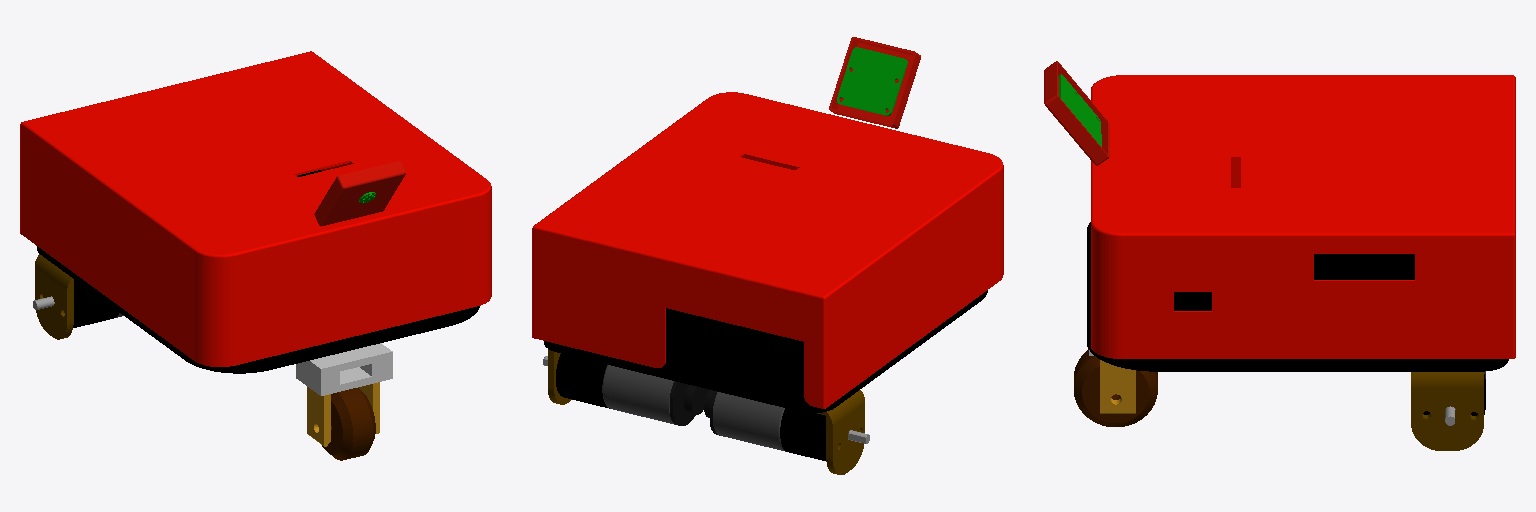
robot.urdf — vision_rpi_bot:
<robot name="vision_rpi_bot">

  <link name="base_footprint" />
<!-- ////////////////////////////////////  BASE LINK //////////////////////////////////////////////// -->
  <link name="base_link">
    <inertial>
      <mass value="4" />
      <origin xyz="0 0 0.1" rpy="0 0 0" />
      <inertia ixx="0.00355" iyy="0.01265" izz="0.013832" ixy="0.0" ixz="0.0" iyz="0.0" />
    </inertial>

    <visual>
      <geometry>
        <mesh filename="package://vision_rpi_bot/meshes/base.dae" />

      </geometry>

    </visual>

    <collision>
      <geometry>
        <mesh filename="package://vision_rpi_bot/meshes/base.dae" />
      </geometry>
    </collision>

  </link>
  <joint name="base_joint" type="fixed">
    <parent link="base_footprint" />
    <child link="base_link" />
    <origin rpy="0 0 0" xyz="0 0 0.14" />
  </joint>
<!-- ////////////////////////////////////  COVER LINK //////////////////////////////////////////////// -->

  <link name="cover_link">
    <inertial>
      <mass value="0.5" />
      <origin xyz="0 0 0.1" rpy="0 0 0" />
      <inertia ixx="0.00355" iyy="0.01265" izz="0.013832" ixy="0.0" ixz="0.0" iyz="0.0" />
    </inertial>

    <visual>
      <geometry>
        <mesh filename="package://vision_rpi_bot/meshes/cover.dae" />
      </geometry>

    </visual>

    <collision>
      <geometry>
        <mesh filename="package://vision_rpi_bot/meshes/cover.dae" />
      </geometry>
    </collision>


  </link>

  <joint name="cover_joint" type="fixed">
    <parent link="base_link" />
    <child link="cover_link" />
    <origin xyz="0.0015  0 0.08" rpy="0 0 0" />

  </joint>

<!-- ////////////////////////////////////  Right Wheel LINK //////////////////////////////////////////////// -->

  <link name="wheel_right_link">
    <inertial>
      <mass value="1" />
      <inertia ixx="0.001444223" iyy="0.00280875" izz="0.001444223" ixy="0.0" ixz="0.0" iyz="0.0" />
      <origin />
    </inertial>

    <visual>
      <origin xyz="0.0 0.0 0.0" rpy="0.0 0.0 3.14"/>
      <geometry>
        <mesh filename="package://vision_rpi_bot/meshes/wheel.dae" />
      </geometry>


    </visual>

    <collision>
      <geometry>
        <mesh filename="package://vision_rpi_bot/meshes/wheel.dae" />
      </geometry>
    </collision>

  </link>

  <joint name="wheel_right_joint" type="continuous">
    <origin xyz="-0.232  0.14 -0.045  " rpy="0 0.0 -1.57" />
    <parent link="base_link" />
    <child link="wheel_right_link" />
    <axis xyz="0 1 0" />
  </joint>
<!-- ////////////////////////////////////  Left Wheel LINK //////////////////////////////////////////////// -->

  <link name="wheel_left_link">
    <inertial>
      <mass value="1" />
      <inertia ixx="0.001444223" iyy="0.00280875" izz="0.001444223" ixy="0.0" ixz="0.0" iyz="0.0" />
      <origin />
    </inertial>

    <visual>

      <geometry>
        <mesh filename="package://vision_rpi_bot/meshes/wheel.dae" />
      </geometry>


    </visual>

    <collision>
      <geometry>
        <mesh filename="package://vision_rpi_bot/meshes/wheel.dae" />
      </geometry>
    </collision>
  </link>

  <joint name="wheel_left_joint" type="continuous">
    <origin xyz="0.233  0.14 -0.045  " rpy="0 0.0 -1.57" />
    <parent link="base_link" />
    <child link="wheel_left_link" />
    <axis xyz="0.0 1 0" />

  </joint>
<!-- ////////////////////////////////////  Caster Holder LINK //////////////////////////////////////////////// -->

<link name="caster_holder_link">

  <inertial>
    <mass value="0.1" />
    <inertia ixx="0.0001295" iyy="0.0001295" izz="0.000199322" ixy="0.0" ixz="0.0" iyz="0.0" />
    <origin />
  </inertial>

  <visual>
    <geometry>
      <mesh filename="package://vision_rpi_bot/meshes/caster_holder.dae" />
    </geometry>
  </visual>

  <collision>
    <geometry>
      <mesh filename="package://vision_rpi_bot/meshes/caster_holder.dae" />
    </geometry>
  </collision>

</link>

<joint name="caster_holder_joint" type="continuous">
  <origin xyz="0 -0.19 -0.015" rpy="0.0 0.0 0.0" />
  <axis xyz="0 0 1" />
  <parent link="base_link" />
  <child link="caster_holder_link" />
</joint>
<!-- ////////////////////////////////////  Caster Wheel LINK //////////////////////////////////////////////// -->
   <link name="caster_wheel_link">
    <inertial>
      <mass value="0.1" />
      <inertia ixx="0.0001295" iyy="0.0001295" izz="0.000199322" ixy="0.0" ixz="0.0" iyz="0.0" />
      <origin />
    </inertial>
    <visual>
      <geometry>
        <mesh filename="package://vision_rpi_bot/meshes/caster_wheel.dae" />
      </geometry>
    </visual>
    <collision>
      <geometry>
        <mesh filename="package://vision_rpi_bot/meshes/caster_wheel.dae" />
      </geometry>
    </collision>
  </link>

  <joint name="caster_wheel_joint" type="continuous">
    <origin xyz="0 -0.003  -0.086" rpy="0.0 0.0 0.0" />
    <axis xyz="1 0 0" />
    <parent link="caster_holder_link" />
    <child link="caster_wheel_link" />
  </joint>


<!-- ////////////////////////////////////  Camera LINK //////////////////////////////////////////////// -->

  <link name="camera_link">

    <inertial>
      <mass value="0.75" />
      <inertia ixx="0.0001295" iyy="0.0001295" izz="0.000199322" ixy="0.0" ixz="0.0" iyz="0.0" />
      <origin />
    </inertial>

    <visual>
      <origin xyz="0.0 0.0 0.0" rpy="0.0 0.0 1.57"/>
      <geometry>
        <mesh filename="package://vision_rpi_bot/meshes/rpi_camera.dae" />
      </geometry>
    </visual>

    <collision>
      <geometry>
        <mesh filename="package://vision_rpi_bot/meshes/rpi_camera.dae" />
      </geometry>
    </collision>
  </link>

  <joint name="camera_joint" type="fixed">
    <origin xyz="0 -0.24 0.2" rpy="0.0 0.65 -1.57" />
    <parent link="base_link" />
    <child link="camera_link" />

  </joint>

<!-- //////////////////////////////////   Differential Drive Plugin  //////////////////////////////// -->
<gazebo>
      <plugin filename="libgazebo_ros_diff_drive.so" name="vision_rpi_bot_controller">
        <odometry_frame>odom</odometry_frame>
        <commandTopic>cmd_vel</commandTopic>
        <publish_odom>true</publish_odom>
        <publish_odom_tf>true</publish_odom_tf>
        <update_rate>15.0</update_rate>
        <left_joint>wheel_left_joint</left_joint>
        <right_joint>wheel_right_joint</right_joint>
        <wheel_separation>0.47</wheel_separation>
        <wheel_diameter>0.2</wheel_diameter>
        <max_wheel_acceleration>2</max_wheel_acceleration>
        <robotBaseFrame>base_link</robotBaseFrame>

      </plugin>
    </gazebo>


<!-- ///////////////////////////////////////// Camera Plugin ////////////////////// -->

  <gazebo reference="camera_link">
    <sensor type="camera" name="vision_rpi_bot_camera">
      <update_rate>30.0</update_rate>
      <camera name="head">
        <horizontal_fov>1.3962634</horizontal_fov>
        <image>
          <width>640</width>
          <height>480</height>
          <format>R8G8B8</format>
        </image>
        <clip>
          <near>0.02</near>
          <far>300</far>
        </clip>
        <noise>
          <type>gaussian</type>
          <!-- Noise is sampled independently per pixel on each frame.
               That pixel's noise value is added to each of its color
               channels, which at that point lie in the range [0,1]. -->
          <mean>0.0</mean>
          <stddev>0.007</stddev>
        </noise>
      </camera>
      <plugin name="rpi_bot_camera_controller" filename="libgazebo_ros_camera.so">
        <alwaysOn>true</alwaysOn>
        <visualize>true</visualize>
        <updateRate>0.0</updateRate>
        <cameraName>VRB/camera</cameraName>
        <imageTopicName>image_raw</imageTopicName>
        <cameraInfoTopicName>camera_info</cameraInfoTopicName>
        <frameName>camera_link</frameName>
        <hackBaseline>0.07</hackBaseline>
        <distortionK1>0.0</distortionK1>
        <distortionK2>0.0</distortionK2>
        <distortionK3>0.0</distortionK3>
        <distortionT1>0.0</distortionT1>
        <distortionT2>0.0</distortionT2>
      </plugin>
    </sensor>
  </gazebo>



</robot>

--- Facts derived from the render (not from the file) ---
The picture shows the robot from 3 angles, left to right: view 1: azimuth 30°, elevation 25°; view 2: azimuth 150°, elevation 25°; view 3: azimuth 270°, elevation 25°; orthographic projection.
Model vision_rpi_bot with 8 links and 7 joints (4 continuous, 3 fixed), rooted at base_footprint, posed all joints at 0.
Links seen in each view (by area): view 1: cover_link, base_link, caster_holder_link, camera_link, caster_wheel_link; view 2: cover_link, base_link, camera_link; view 3: cover_link, base_link, camera_link, caster_wheel_link, caster_holder_link.
Link boxes in pixels (x1=…): cover_link: x1=20, y1=51, x2=491, y2=366; base_link: x1=33, y1=170, x2=479, y2=373; caster_holder_link: x1=296, y1=343, x2=392, y2=446; camera_link: x1=314, y1=161, x2=405, y2=226; caster_wheel_link: x1=322, y1=388, x2=375, y2=460; cover_link: x1=532, y1=92, x2=1003, y2=408; base_link: x1=543, y1=290, x2=987, y2=474; camera_link: x1=829, y1=37, x2=920, y2=128; cover_link: x1=1091, y1=75, x2=1515, y2=358; base_link: x1=1087, y1=222, x2=1508, y2=450; camera_link: x1=1044, y1=61, x2=1109, y2=165; caster_wheel_link: x1=1074, y1=349, x2=1157, y2=426; caster_holder_link: x1=1089, y1=350, x2=1135, y2=413.
Bounding box of the posed robot: 0.4144 × 0.4686 × 0.3775 m (x, y, z).
Meshes: 6 distinct files referenced, 5 mesh visuals loaded (5 Collada DAE); not drawn: 2 (reference not matched to a file when rendering).